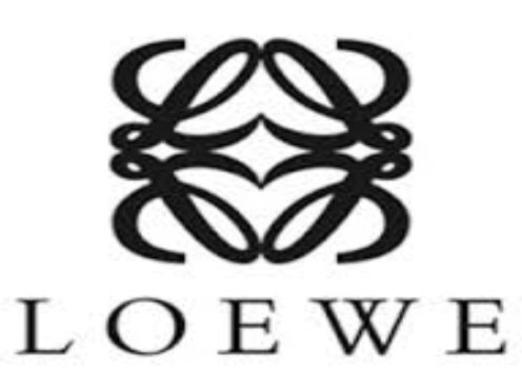LOEWE: (7, 30, 522, 359)
